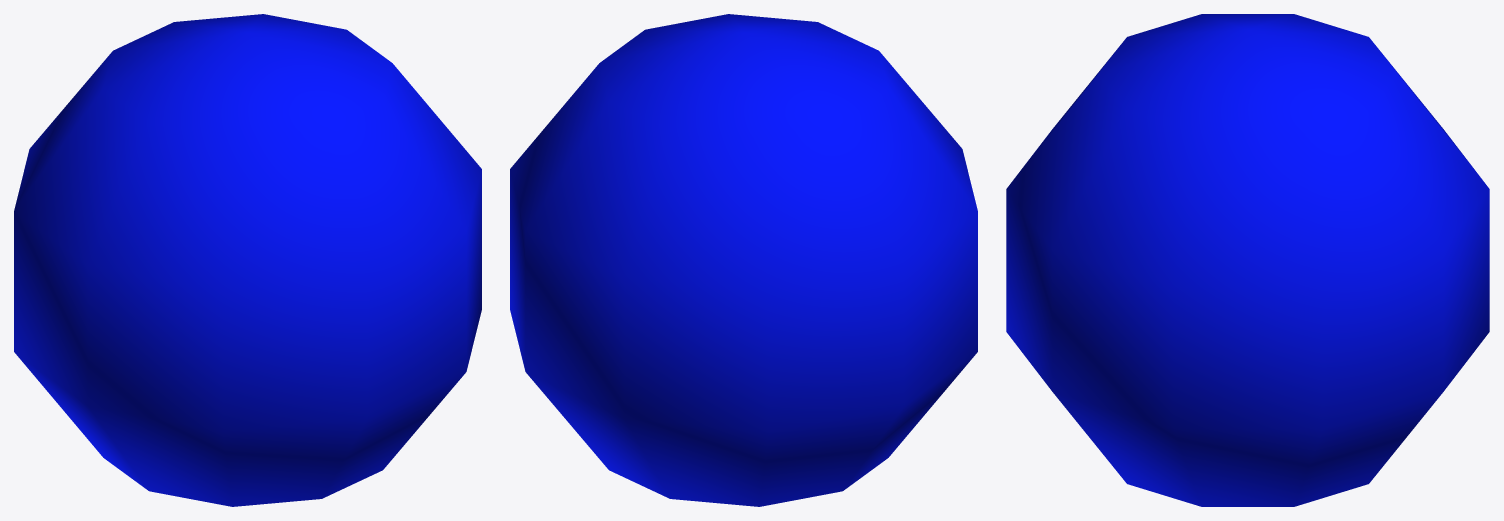
The model's file is Player2.FBX.
3 renders of one model, left to right at view 1: azimuth 30°, elevation 25°; view 2: azimuth 150°, elevation 25°; view 3: azimuth 270°, elevation 25°, orthographic.
Parts seen in each view (by area): view 1: Sphere001; view 2: Sphere001; view 3: Sphere001.
Boxes of the visible parts, x1,y1,x2,y2 form: Sphere001: (14,14,481,506); Sphere001: (510,14,977,506); Sphere001: (1006,14,1489,506).
Size of the model in its own units: 0.9045 by 1 by 0.9511.
